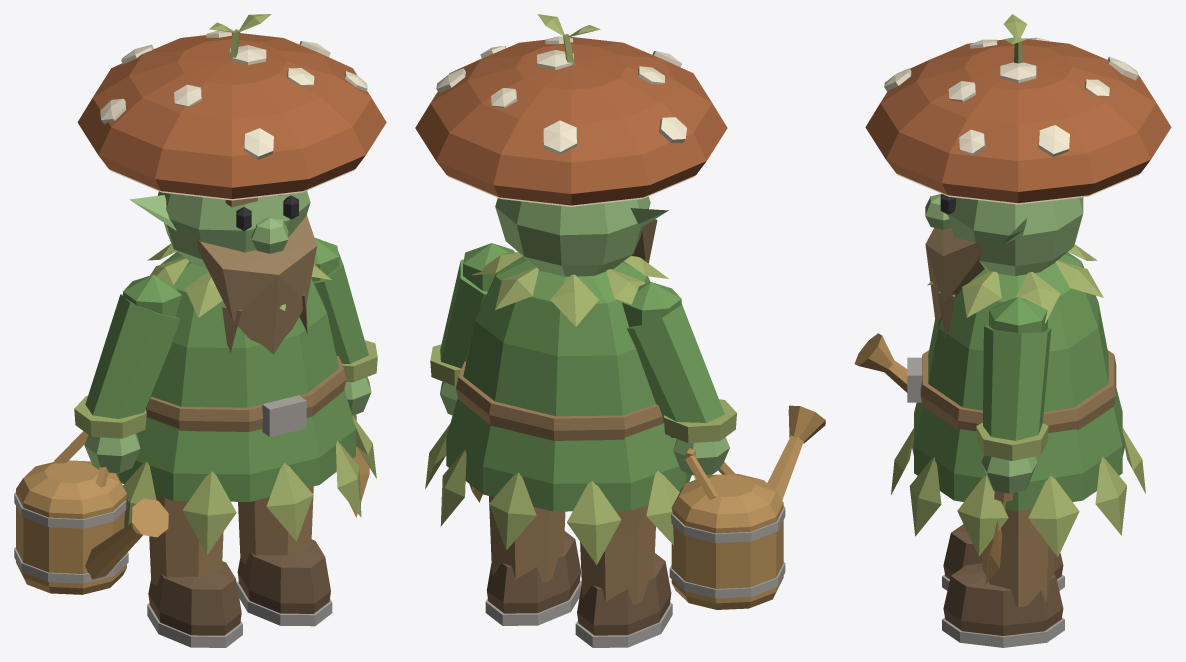
File: race-rootfolk.glb
3 views of the same model, side by side, from view 1: azimuth 30°, elevation 25°; view 2: azimuth 150°, elevation 25°; view 3: azimuth 270°, elevation 25° (orthographic). The views are drawn at different scales.
Visible parts, largest first — view 1: cap, smock, watering_can, beard, arm_r, smock_leaves, head, boot_r, boot_l, belt, leg_r, cap_spots (+17 smaller); view 2: cap, smock, watering_can, head, arm_r, smock_leaves, belt, leg_r, leaf_collar, boot_l, boot_r, arm_l (+12 smaller); view 3: cap, smock, smock_leaves, arm_l, head, boot_l, leg_l, cap_spots, belt, beard, leaf_collar, boot_sole_l (+9 smaller).
Boxes of the visible parts, x1,y1,x2,y2 form: cap: [77, 32, 386, 198]; smock: [116, 252, 355, 501]; watering_can: [16, 460, 126, 594]; beard: [197, 215, 317, 354]; arm_r: [85, 274, 181, 418]; smock_leaves: [123, 415, 376, 554]; head: [157, 191, 310, 268]; boot_r: [148, 561, 241, 635]; boot_l: [237, 539, 330, 613]; belt: [146, 356, 346, 431]; leg_r: [149, 495, 223, 585]; cap_spots: [100, 30, 367, 159]; cap: [415, 37, 727, 205]; smock: [446, 256, 691, 511]; watering_can: [671, 473, 783, 609]; head: [495, 196, 650, 276]; arm_r: [622, 282, 724, 437]; smock_leaves: [425, 424, 696, 565]; belt: [456, 361, 663, 440]; leg_r: [580, 504, 655, 604]; leaf_collar: [472, 252, 668, 326]; boot_l: [486, 531, 580, 613]; boot_r: [577, 553, 671, 635]; arm_l: [440, 243, 514, 368]; cap: [865, 38, 1171, 203]; smock: [914, 252, 1122, 510]; smock_leaves: [891, 427, 1145, 557]; arm_l: [983, 297, 1051, 440]; head: [948, 197, 1083, 276]; boot_l: [943, 563, 1063, 635]; leg_l: [982, 508, 1054, 607]; cap_spots: [884, 37, 1138, 156]; belt: [920, 350, 1116, 432]; beard: [925, 228, 984, 338]; leaf_collar: [927, 244, 1103, 323]; boot_sole_l: [942, 617, 1064, 647].
Size of what is drawn, in the model's own units: 0.662 by 1.07 by 0.5282.
